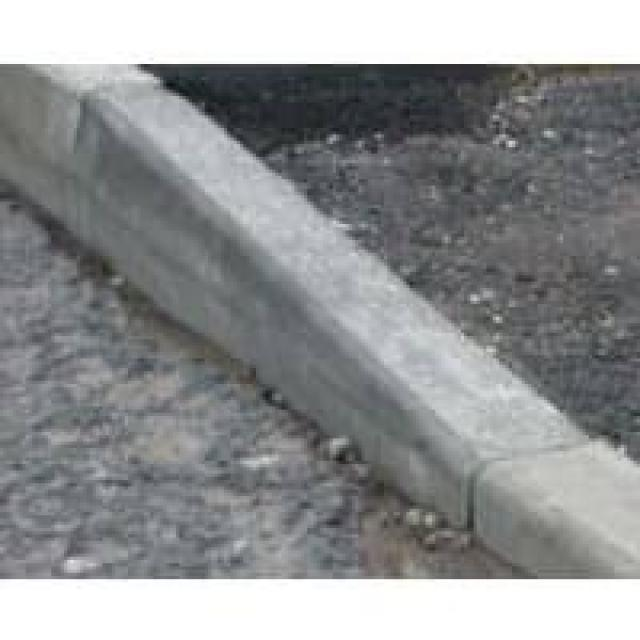curb: (323, 225, 640, 580), (1, 74, 299, 362)
